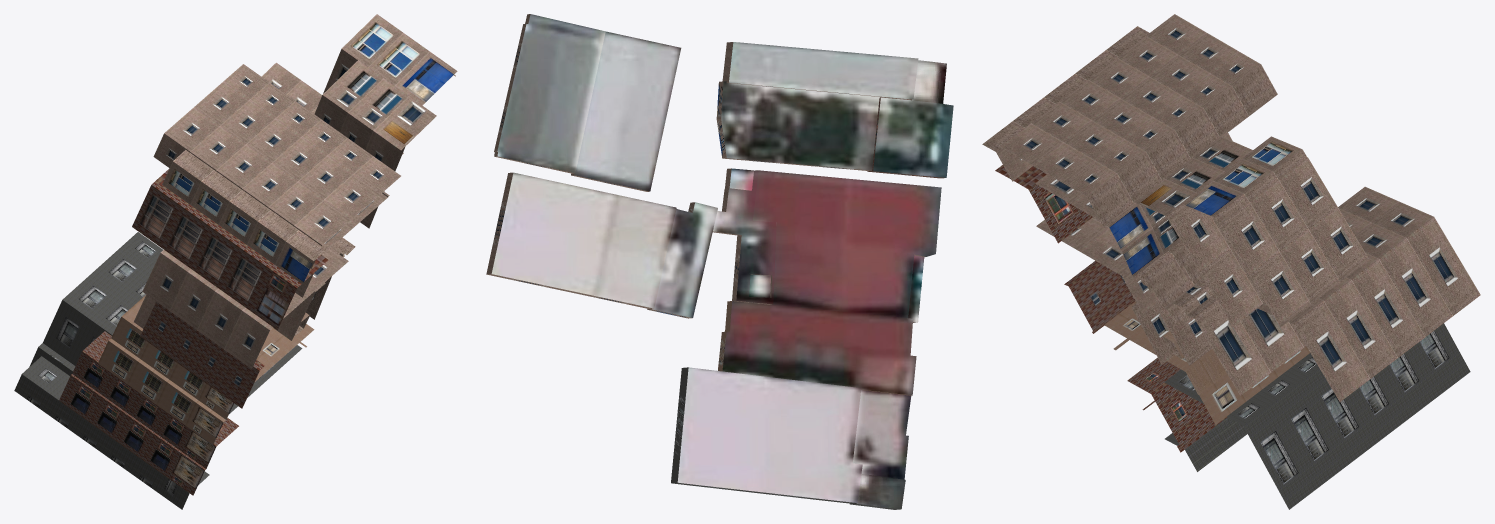
3 renders of one model, left to right at view 1: azimuth 30°, elevation 25°; view 2: azimuth 150°, elevation 25°; view 3: azimuth 270°, elevation 25°, orthographic. The views are drawn at different scales.
Size of the model in its own units: 41.38 by 41.17 by 41.23.
Materials: 59 (59 with a texture image).
